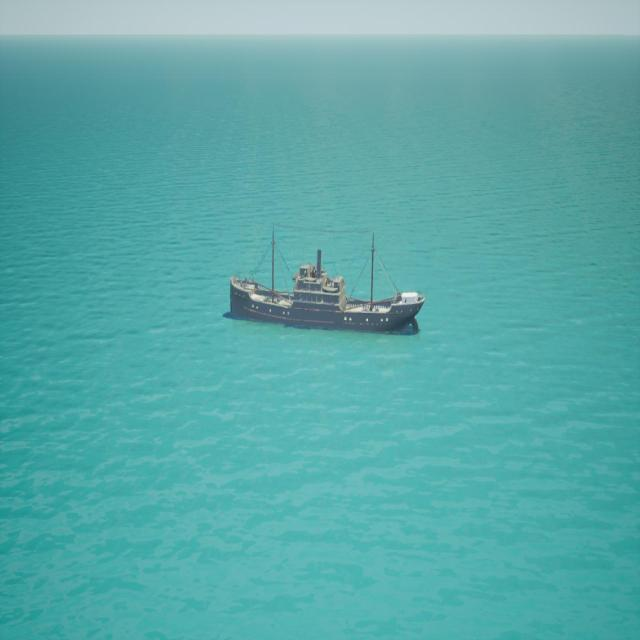fishing ship: (228, 226, 427, 336)
